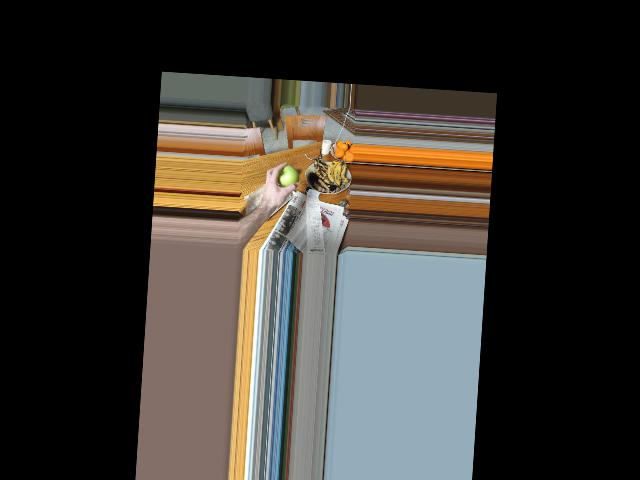apple: (274, 164, 298, 193)
